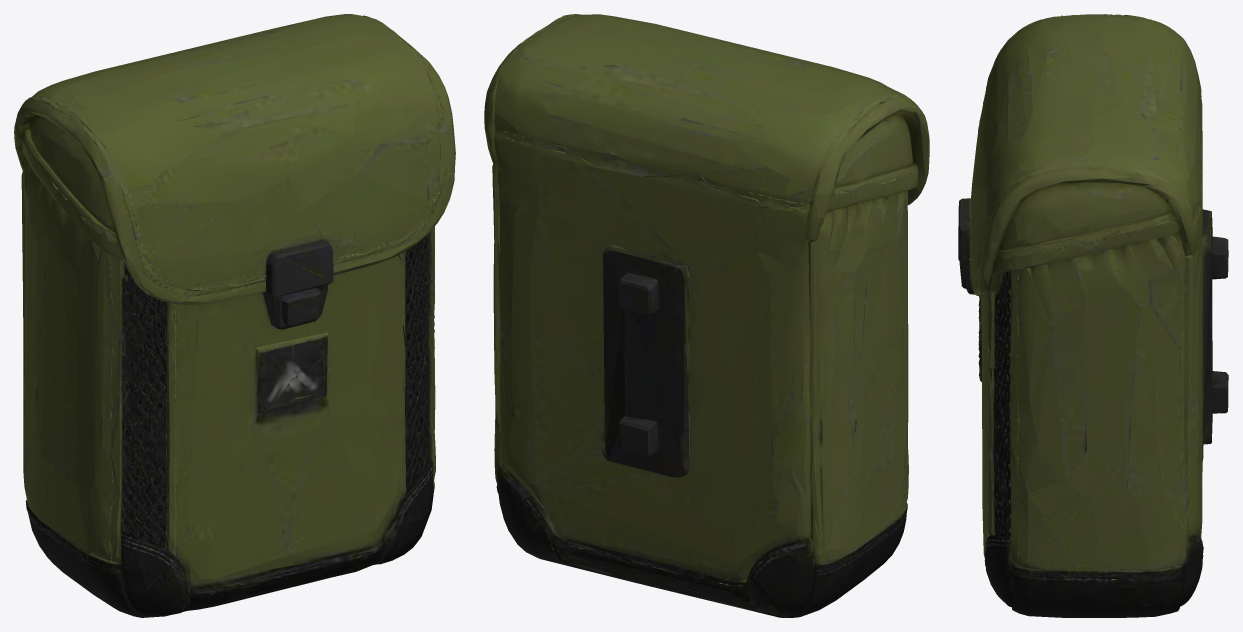
The model's file is lkdv-m18.glb.
The picture shows the model from 3 angles, left to right: view 1: azimuth 30°, elevation 25°; view 2: azimuth 150°, elevation 25°; view 3: azimuth 270°, elevation 25°; orthographic projection. The views are drawn at different scales.
Size of the model in its own units: 0.1571 by 0.21 by 0.1079.
Materials: 1 (1 with a texture image).
